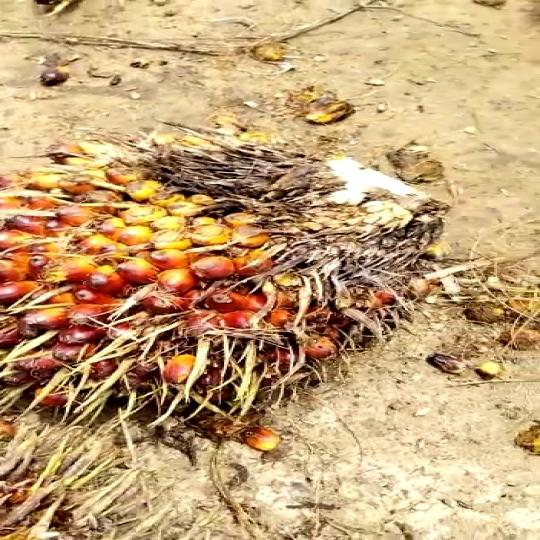masak: (0, 126, 453, 453)
